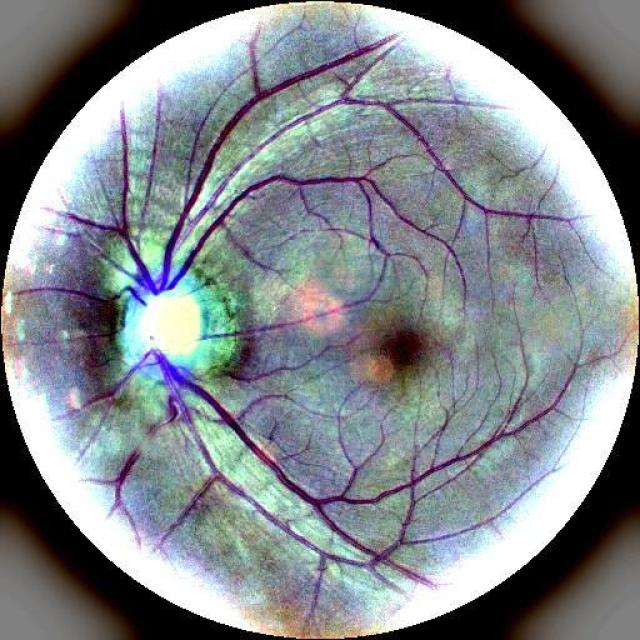Macula: (368, 328, 421, 380)
Optic Disk: (106, 266, 218, 368)
